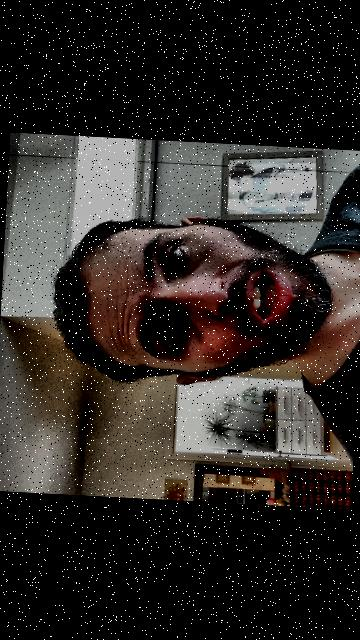surprised: (40, 203, 346, 399)
